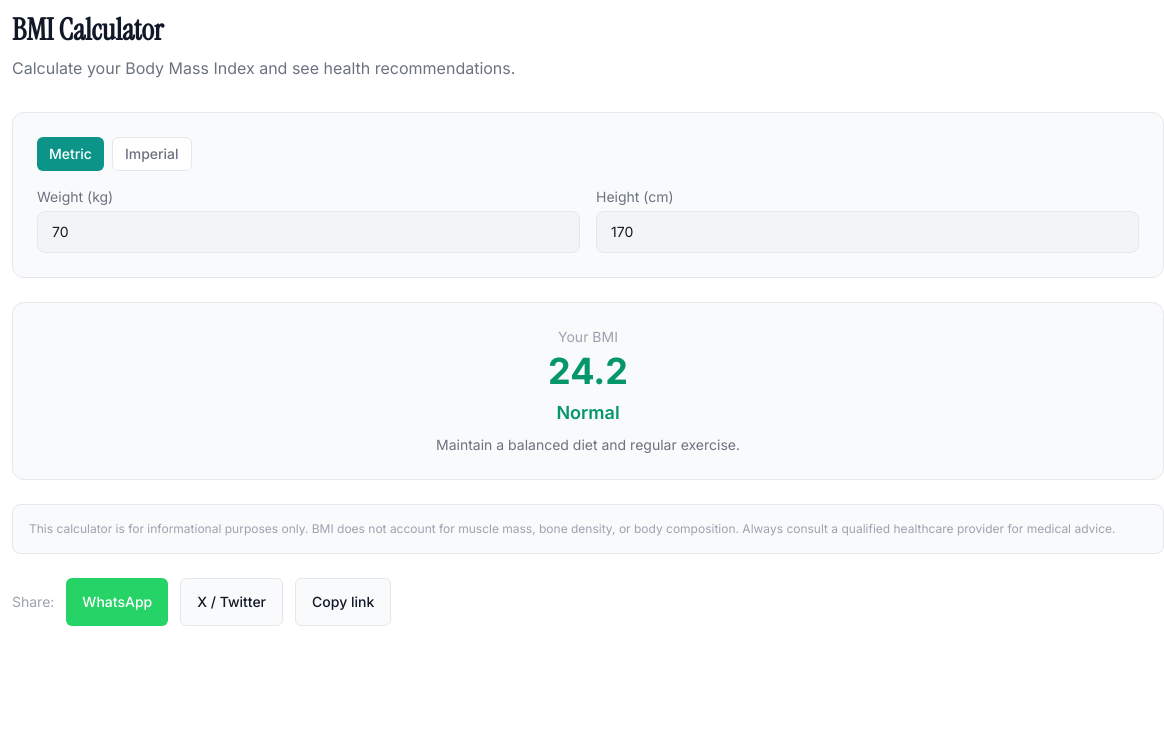
Test: BmiCalculator › handles zero height gracefully
Replace the text in the number field below "Height (" with "0": [868, 232] box [596,211,1139,253]
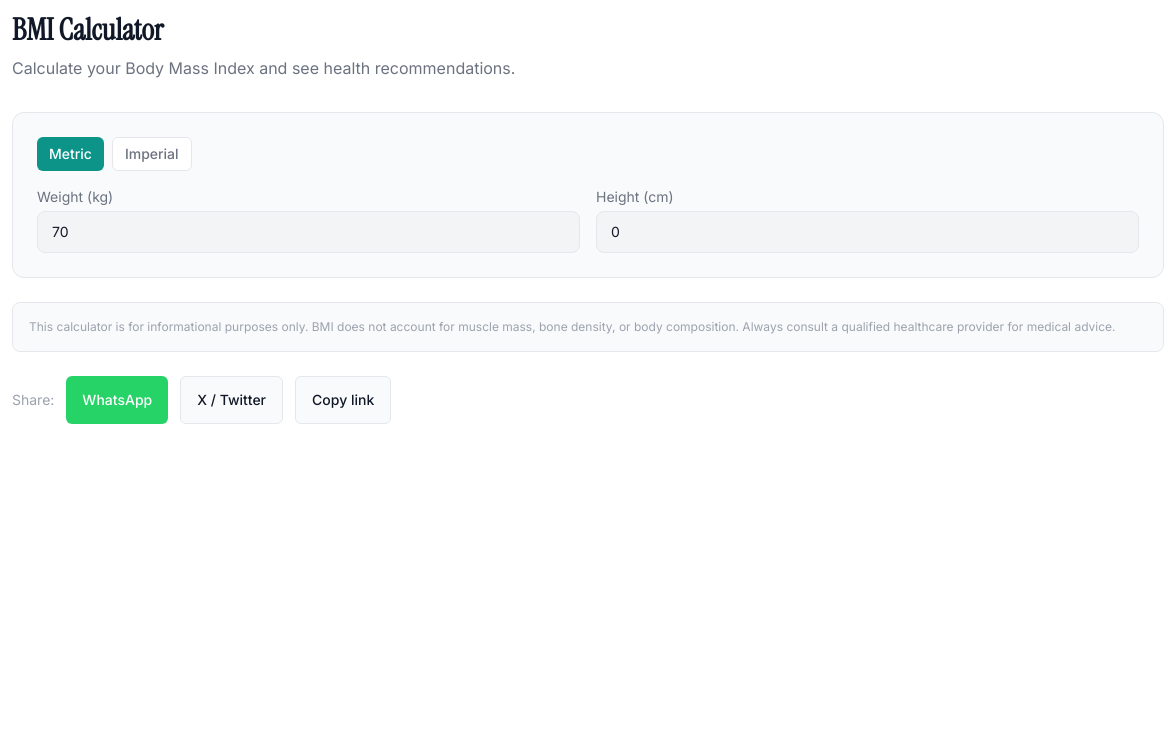
Expected: the text "Your BMI" is gone
